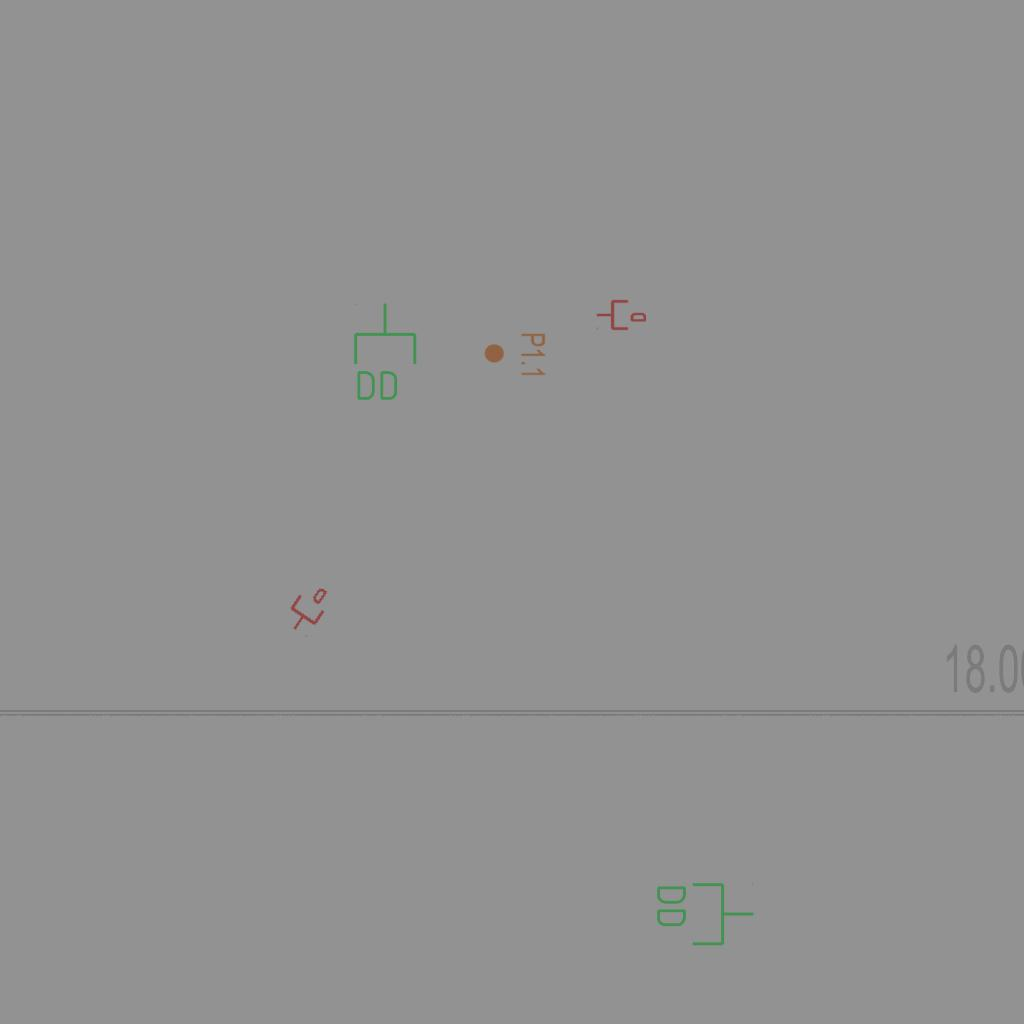Datenanschluss_einfach: (279, 578, 337, 640), (596, 298, 646, 332)
Datenanschluss_zweifach: (653, 879, 756, 948), (350, 301, 419, 404)
Downlight_LED_Einbauleuchten_Flur: (483, 332, 547, 378)
